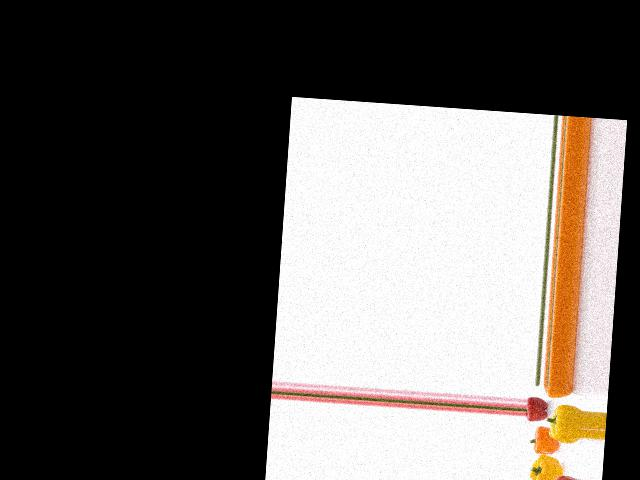bell_pepper: (541, 384, 573, 400)
